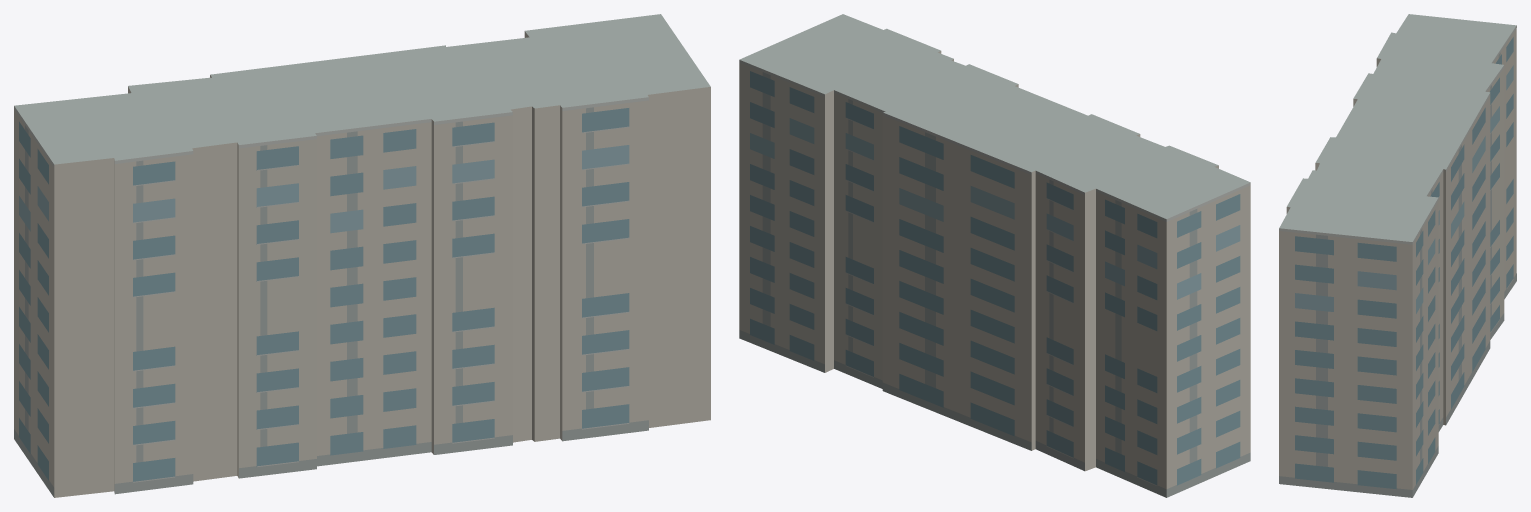
Rendered from survey-upis-32870216.glb.
The picture shows the model from 3 angles, left to right: view 1: azimuth 30°, elevation 25°; view 2: azimuth 150°, elevation 25°; view 3: azimuth 270°, elevation 25°; orthographic projection. The views are drawn at different scales.
Visible parts, largest first — view 1: survey-upis-32870216.tmp; view 2: survey-upis-32870216.tmp; view 3: survey-upis-32870216.tmp.
Boxes of the visible parts, x1,y1,x2,y2 form: survey-upis-32870216.tmp: (14, 14, 710, 497); survey-upis-32870216.tmp: (739, 14, 1250, 497); survey-upis-32870216.tmp: (1279, 14, 1516, 497).
Bounding box in the file's own units: 46.49 × 24.3 × 20.47.
